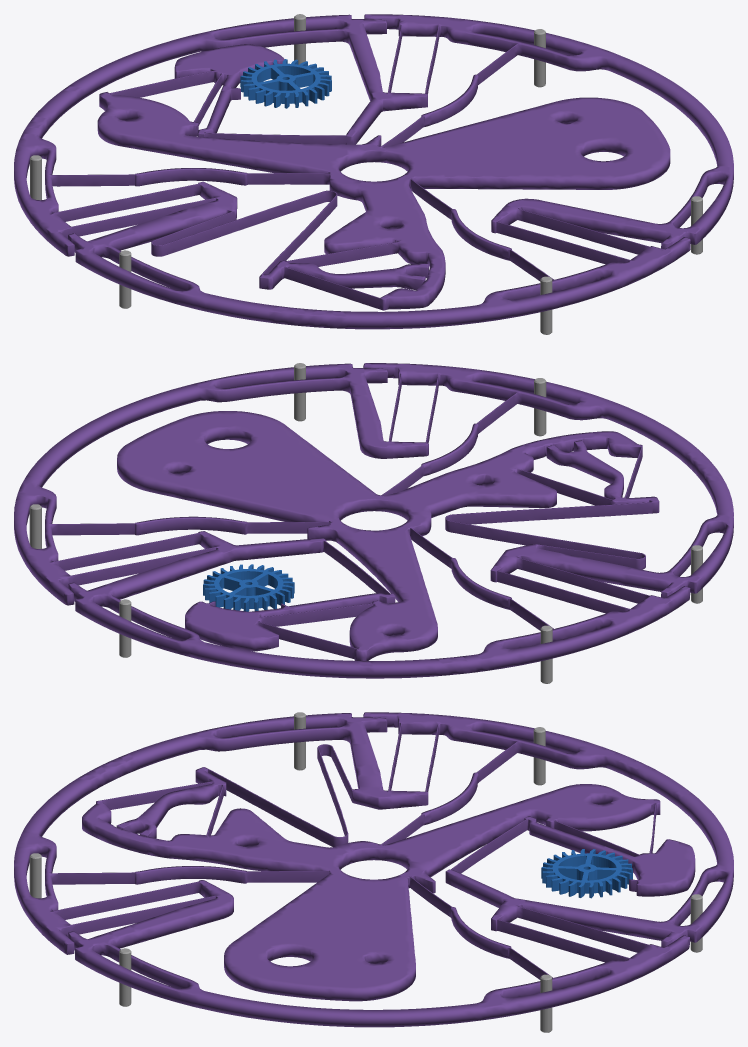
File: zenith.glb
3 renders of one model, top to bottom at view 1: azimuth 30°, elevation 25°; view 2: azimuth 150°, elevation 25°; view 3: azimuth 270°, elevation 25°, orthographic.
Visible parts, largest first — view 1: Defy: min. pos., Escapement gear, pin.003, pin.002, pin, pin.001; view 2: Defy: min. pos., Escapement gear, pin.002, pin, pin.004, pin.001, pin.005; view 3: Defy: min. pos., Escapement gear, pin, pin.001, pin.003, pin.004, pin.002.
Boxes of the visible parts, x1,y1,x2,y2 form: Defy: min. pos.: (14, 14, 733, 329); Escapement gear: (240, 59, 331, 108); pin.003: (119, 250, 131, 308); pin.002: (534, 29, 545, 87); pin: (540, 276, 552, 334); pin.001: (30, 155, 41, 200); Defy: min. pos.: (14, 363, 733, 678); Escapement gear: (203, 564, 294, 611); pin.002: (29, 504, 41, 548); pin: (534, 378, 546, 436); pin.004: (294, 363, 305, 421); pin.001: (540, 625, 552, 683); pin.005: (119, 599, 131, 657); Defy: min. pos.: (14, 712, 733, 1027); Escapement gear: (541, 849, 632, 898); pin: (29, 853, 41, 898); pin.001: (533, 727, 545, 785); pin.003: (294, 712, 305, 770); pin.004: (119, 948, 131, 1006); pin.002: (540, 974, 552, 1032).
Size of the model in its own units: 0.3431 by 0.0285 by 0.3433.
